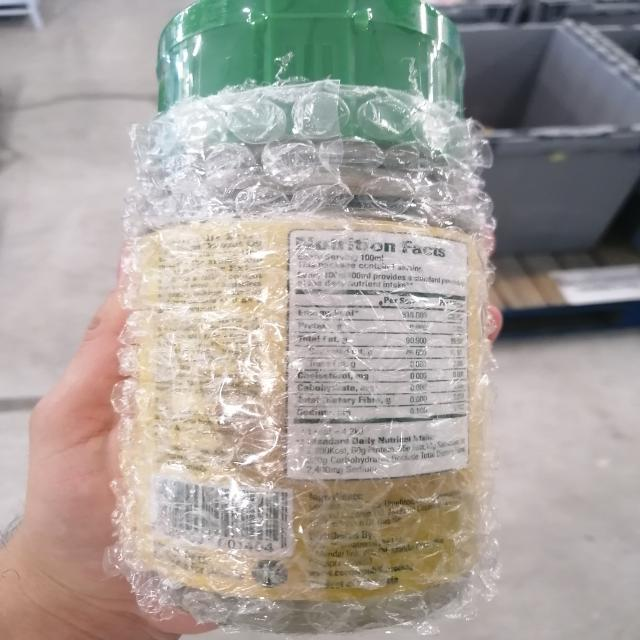object_name: (150, 15, 479, 609)
